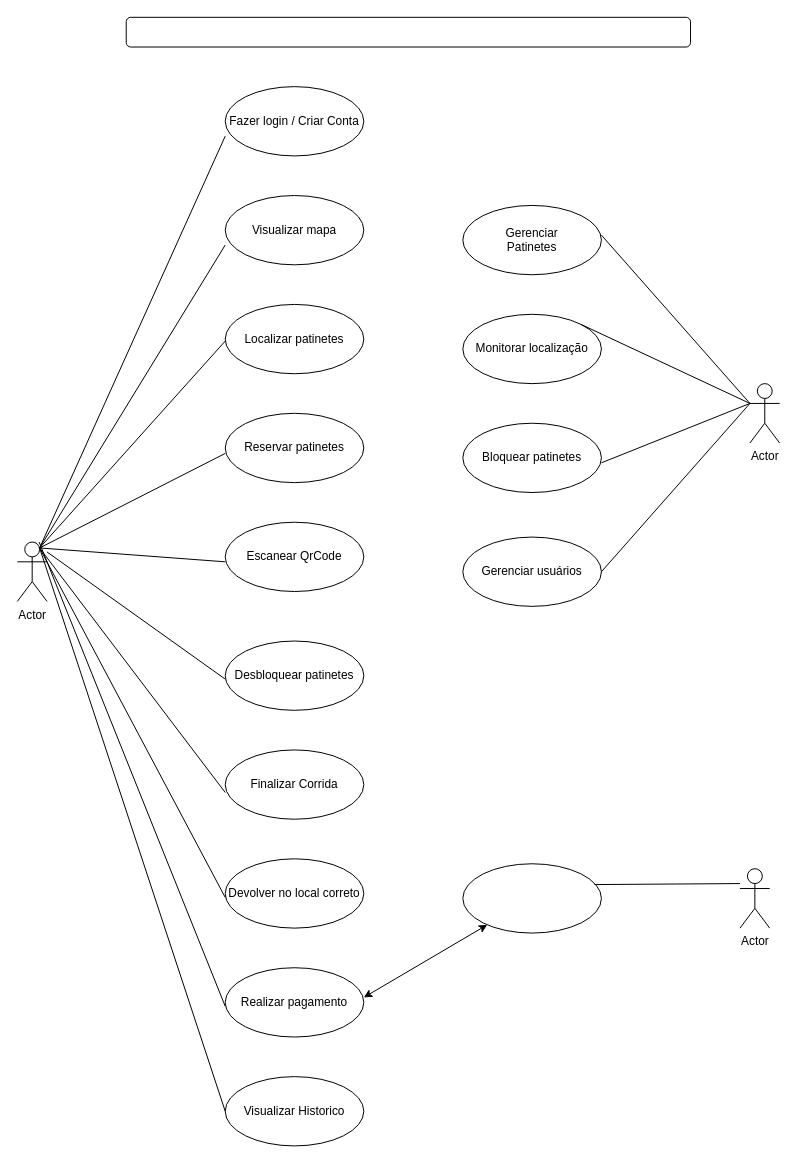
This 797x1163 diagram has some shape labels left out. The shapes that lost their labels are listed below. From the top down, each one's centre as x and y in pixels, then its label:
pixel 408 31: Diagrama de Caso de Uso - Sistema de Micromobilidade - Patinetes
pixel 531 898: Processar pagamento
